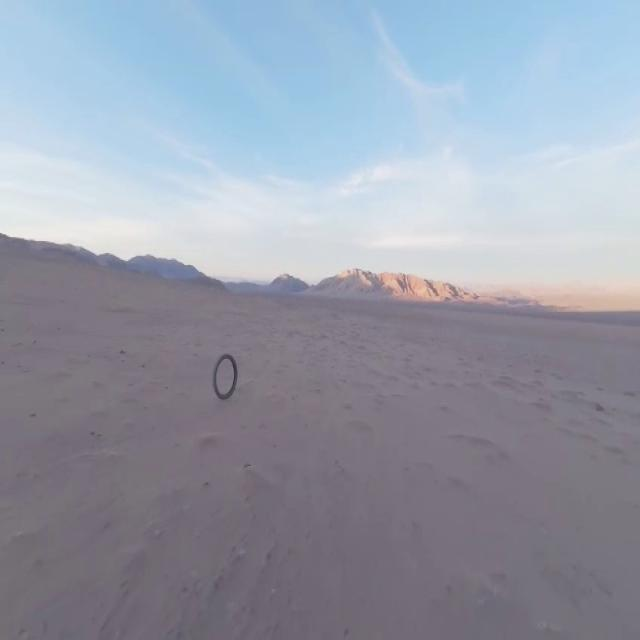Tire: (213, 353, 238, 399)
